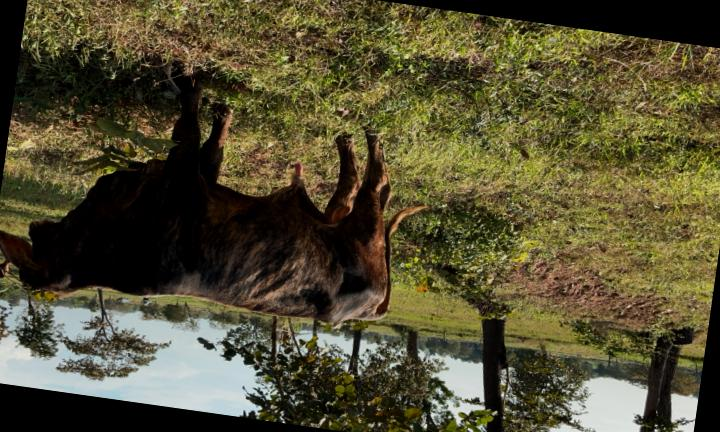Charolais: (0, 80, 422, 323)
